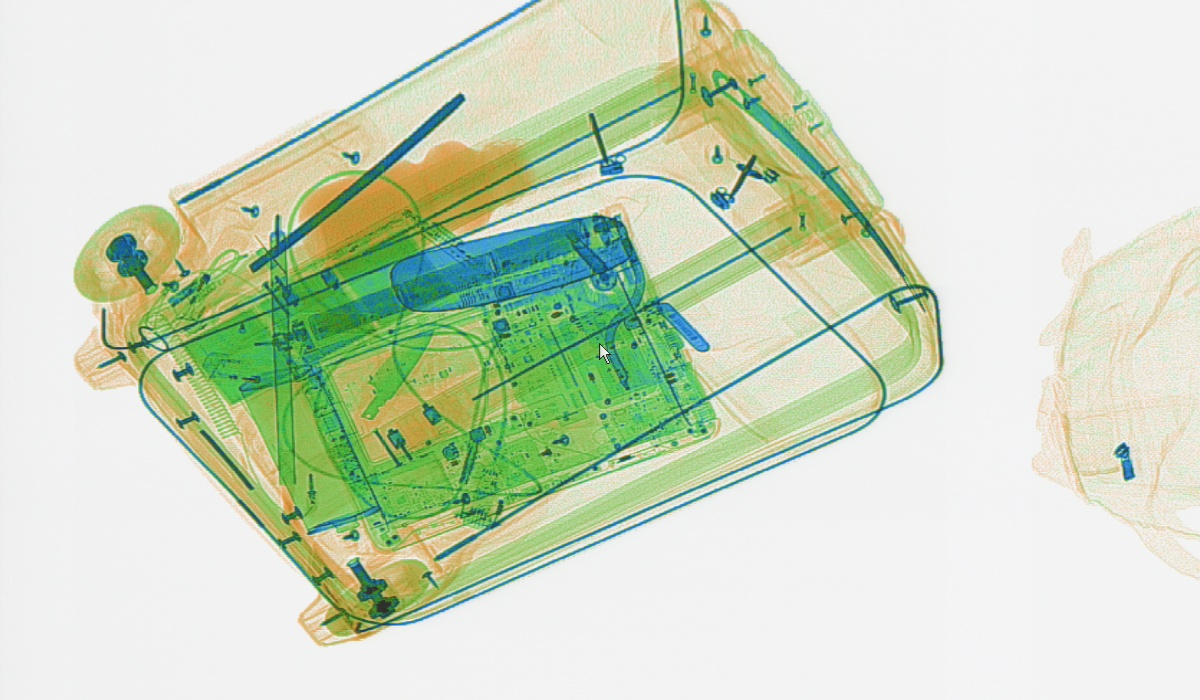knife: (317, 321, 438, 491)
lighter: (171, 216, 240, 321), (198, 348, 320, 392)
zippooil: (237, 361, 381, 536)
